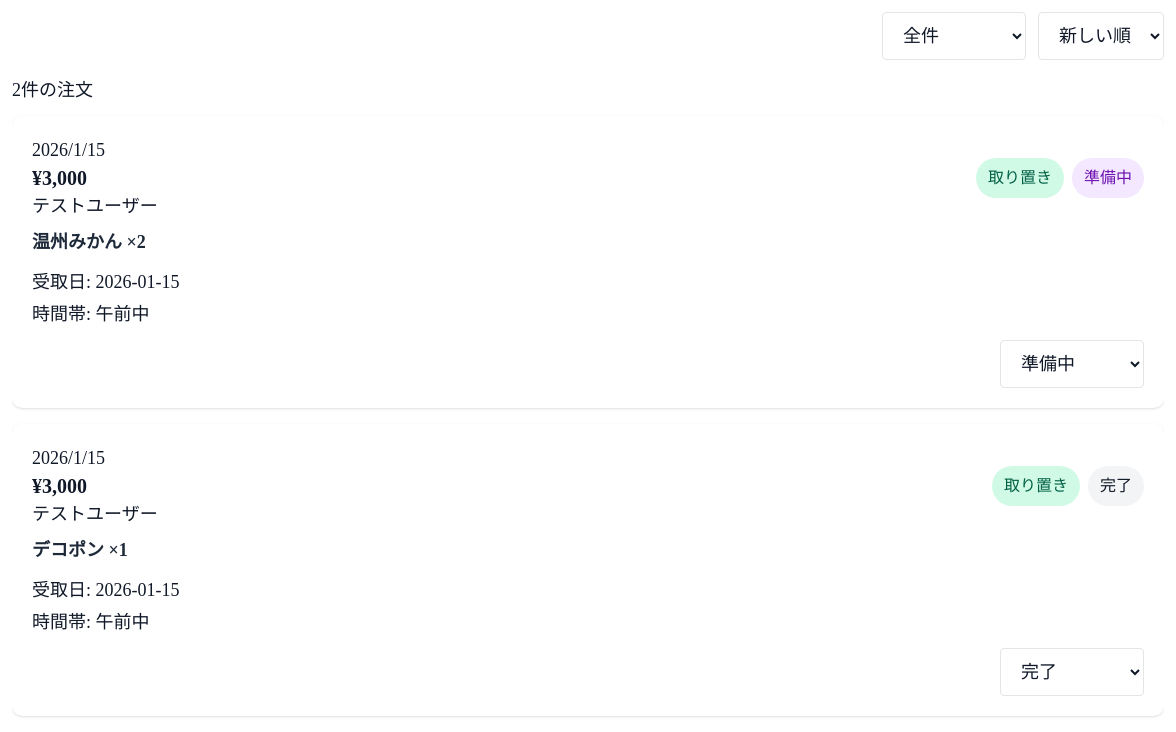
AdminOrdersTable › フィルタとの統合 › ステータスフィルタ適用後も商品サマリーが表示される
Select "全件" in the 1st dropdown at coordinates (954, 36), box x1=882 y1=12 x2=1026 y2=60
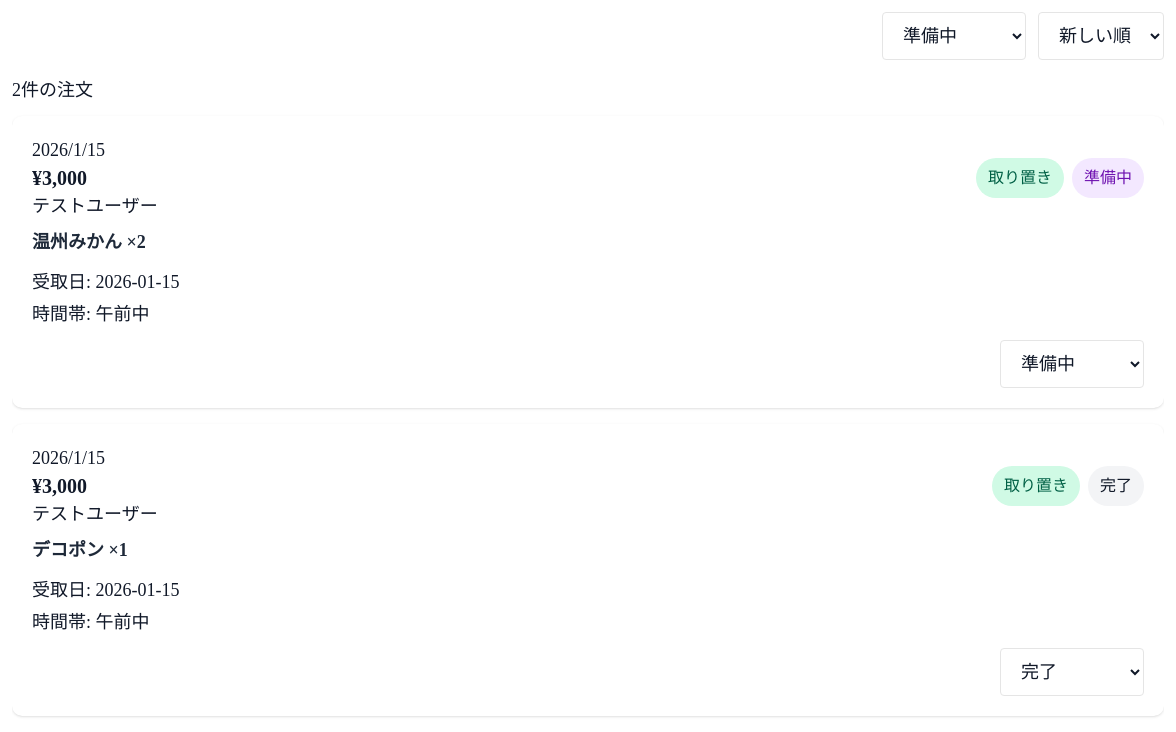
Select "準備中" in the 1st dropdown at coordinates (954, 36), box x1=882 y1=12 x2=1026 y2=60
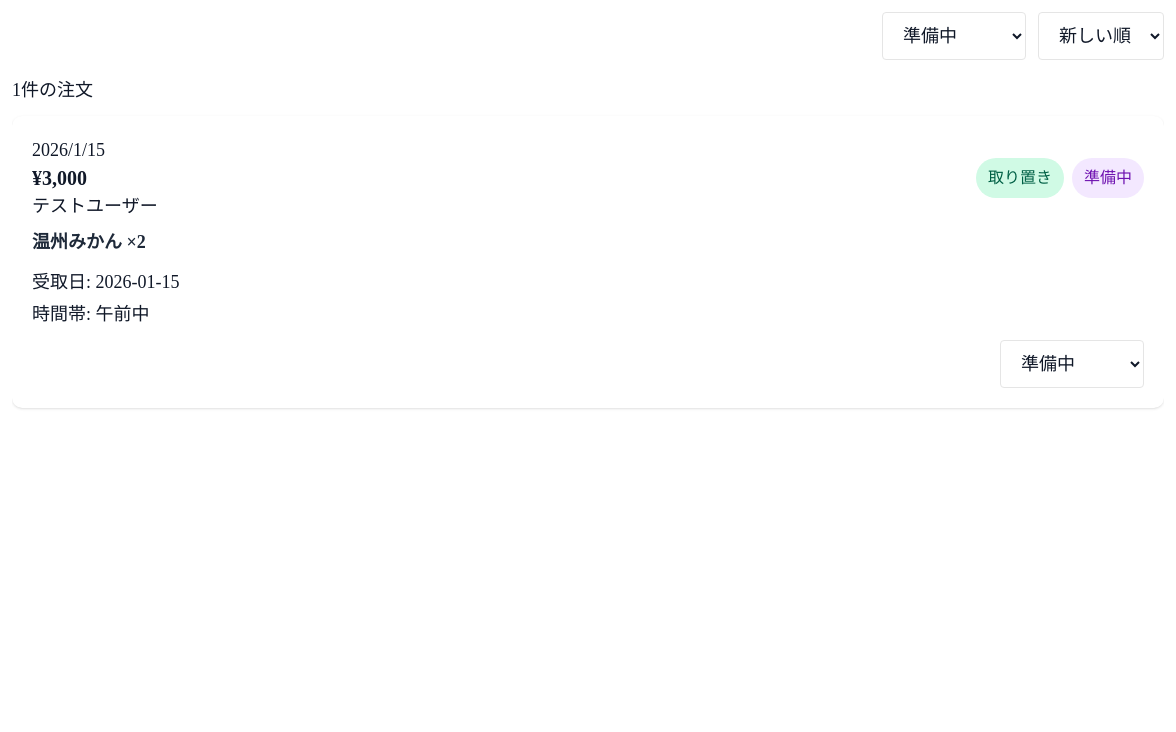
Expected: the text "温州みかん ×2" is shown, x1=32 y1=232 x2=146 y2=252
Result: the text "デコポン" is gone
